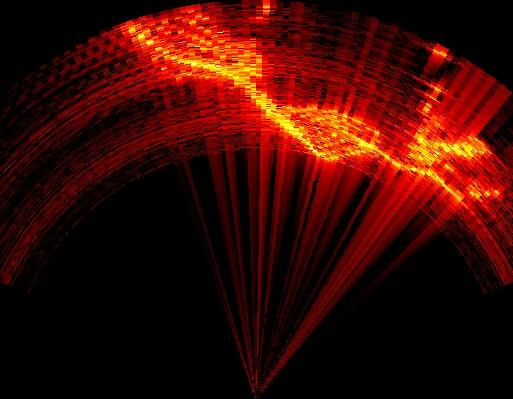shipwreck: (127, 7, 501, 201)
